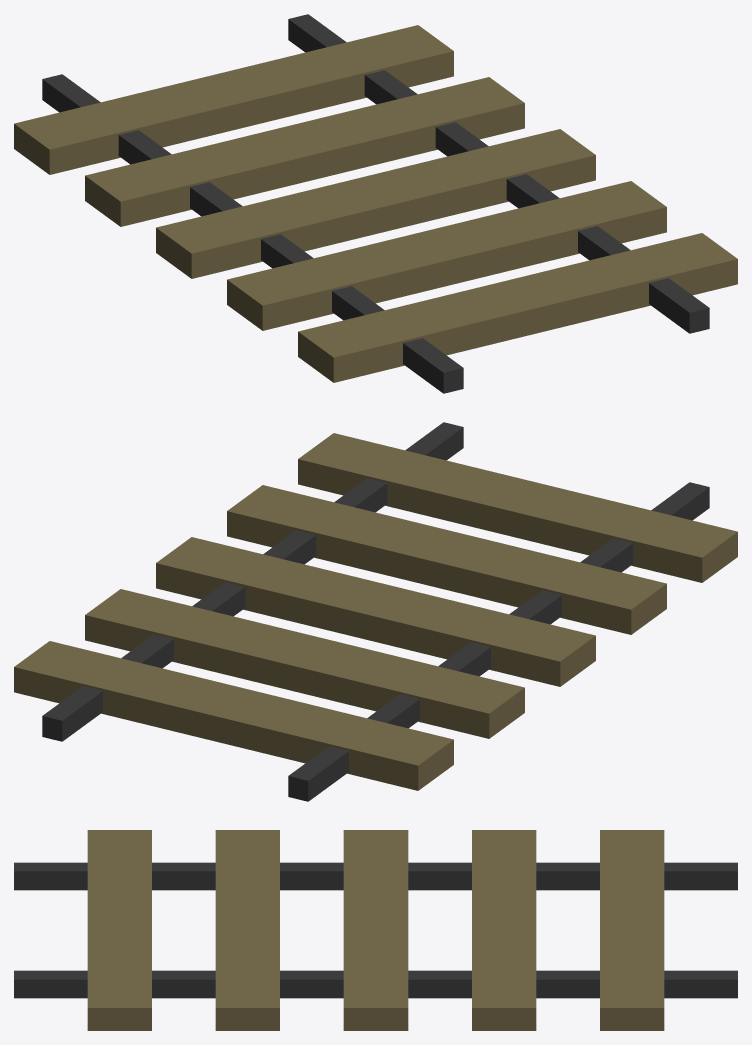
Rendered from rail.fbx.
The picture shows the model from 3 angles, top to bottom: view 1: azimuth 30°, elevation 25°; view 2: azimuth 150°, elevation 25°; view 3: azimuth 270°, elevation 25°; orthographic projection. The views are drawn at different scales.
Visible parts, largest first — view 1: Cube.001, Cube.004, Cube, Cube.002, Cube.003, rod2, rod; view 2: Cube.002, Cube.003, Cube, Cube.001, Cube.004, rod2, rod; view 3: Cube, Cube.001, Cube.002, Cube.003, Cube.004, rod2, rod.
Part boxes in pixels (left/top/right/bottom): Cube.001: left=85, top=77, right=524, bottom=226; Cube.004: left=14, top=25, right=453, bottom=174; Cube: left=156, top=129, right=595, bottom=278; Cube.002: left=227, top=181, right=666, bottom=330; Cube.003: left=298, top=233, right=737, bottom=382; rod2: left=288, top=14, right=709, bottom=333; rod: left=42, top=74, right=463, bottom=393; Cube.002: left=227, top=485, right=666, bottom=634; Cube.003: left=298, top=433, right=737, bottom=582; Cube: left=156, top=537, right=595, bottom=686; Cube.001: left=85, top=589, right=524, bottom=738; Cube.004: left=14, top=641, right=453, bottom=790; rod2: left=42, top=422, right=463, bottom=741; rod: left=288, top=482, right=709, bottom=801; Cube: left=343, top=830, right=408, bottom=1030; Cube.001: left=472, top=830, right=536, bottom=1030; Cube.002: left=215, top=830, right=279, bottom=1030; Cube.003: left=87, top=830, right=151, bottom=1030; Cube.004: left=600, top=830, right=664, bottom=1030; rod2: left=14, top=970, right=737, bottom=998; rod: left=14, top=862, right=737, bottom=890.
Size of the model in its own units: 1.64 by 0.0984 by 2.83.
